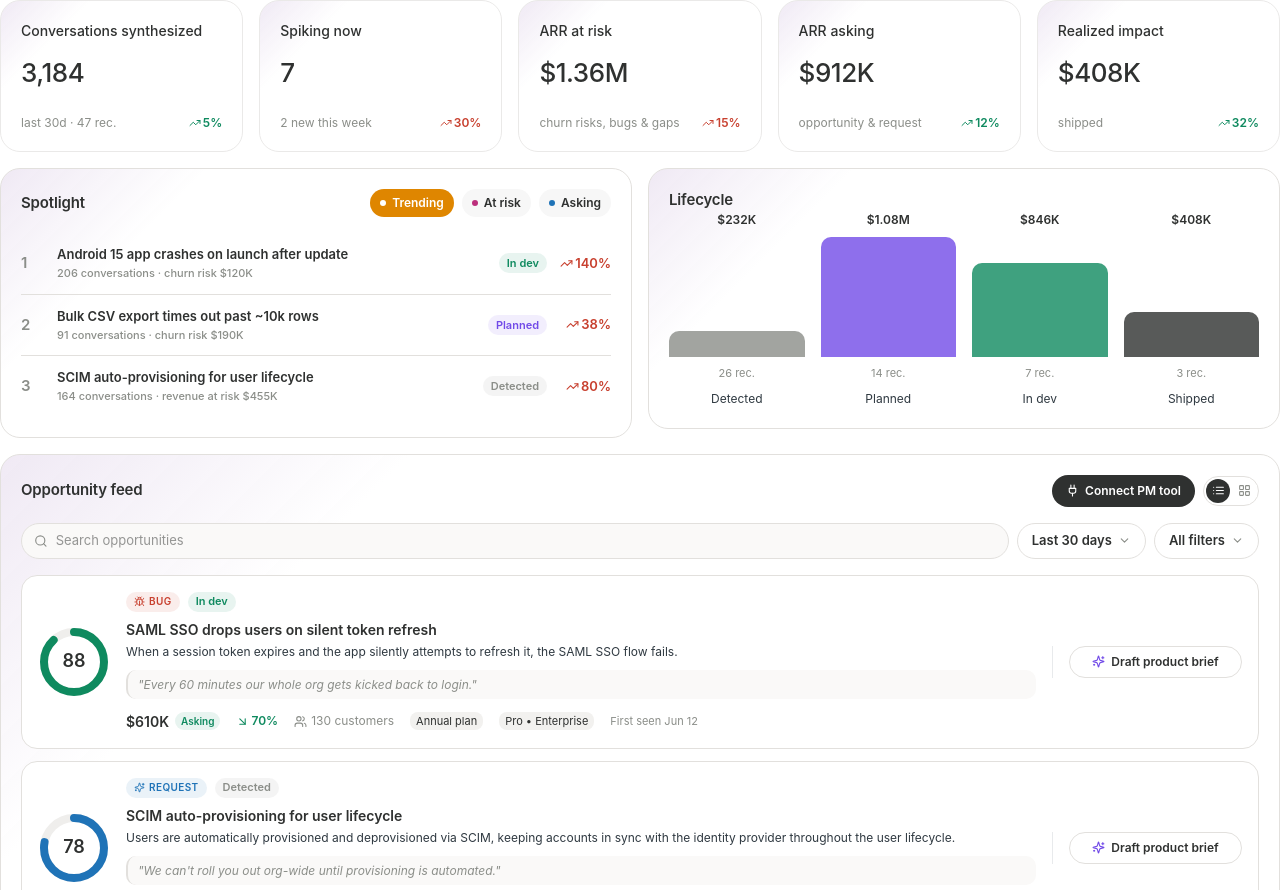
Test: PmDashboard › swaps the spotlight to its own curated list per tab
Check: the text "Android 15 app crashes on launch after update" is shown, box 57,246 -> 348,262
Check: the text "140%" is shown, box 575,254 -> 611,273
At risk: distinct list with BUG/GAP tags + revenue amounts (Android item is gone).
Click the button "At risk" at (496, 203), box 462,189 -> 531,217
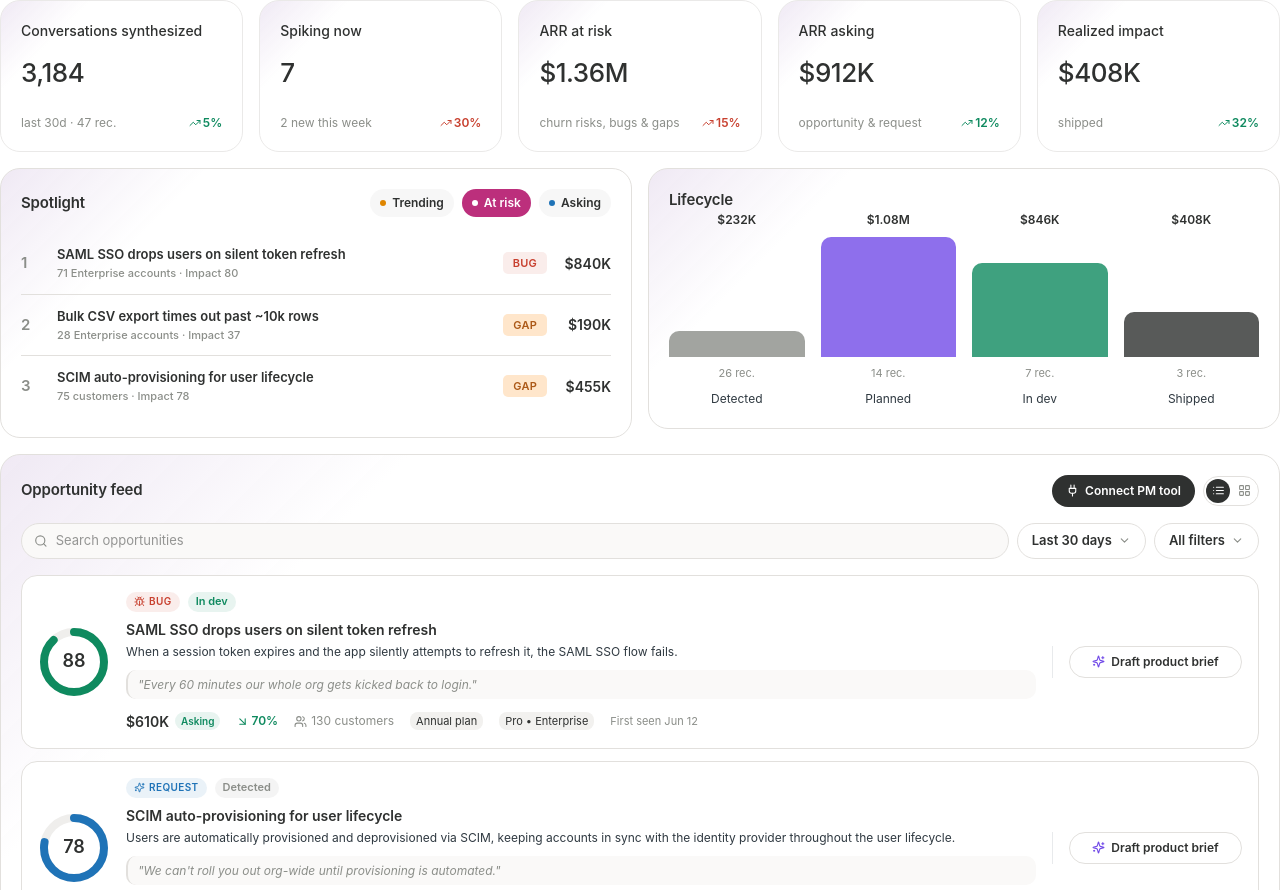
Check: the text "Android 15 app crashes" is gone
Check: the text "GAP" next to "$190K" is shown, box 513,318 -> 537,332
Check: the text "$840K" is shown, box 559,253 -> 611,274
Asking: growth list keyed on deals (Salesforce sync) with asking amounts.
Click the button "Asking" at (575, 203), box 539,189 -> 611,217
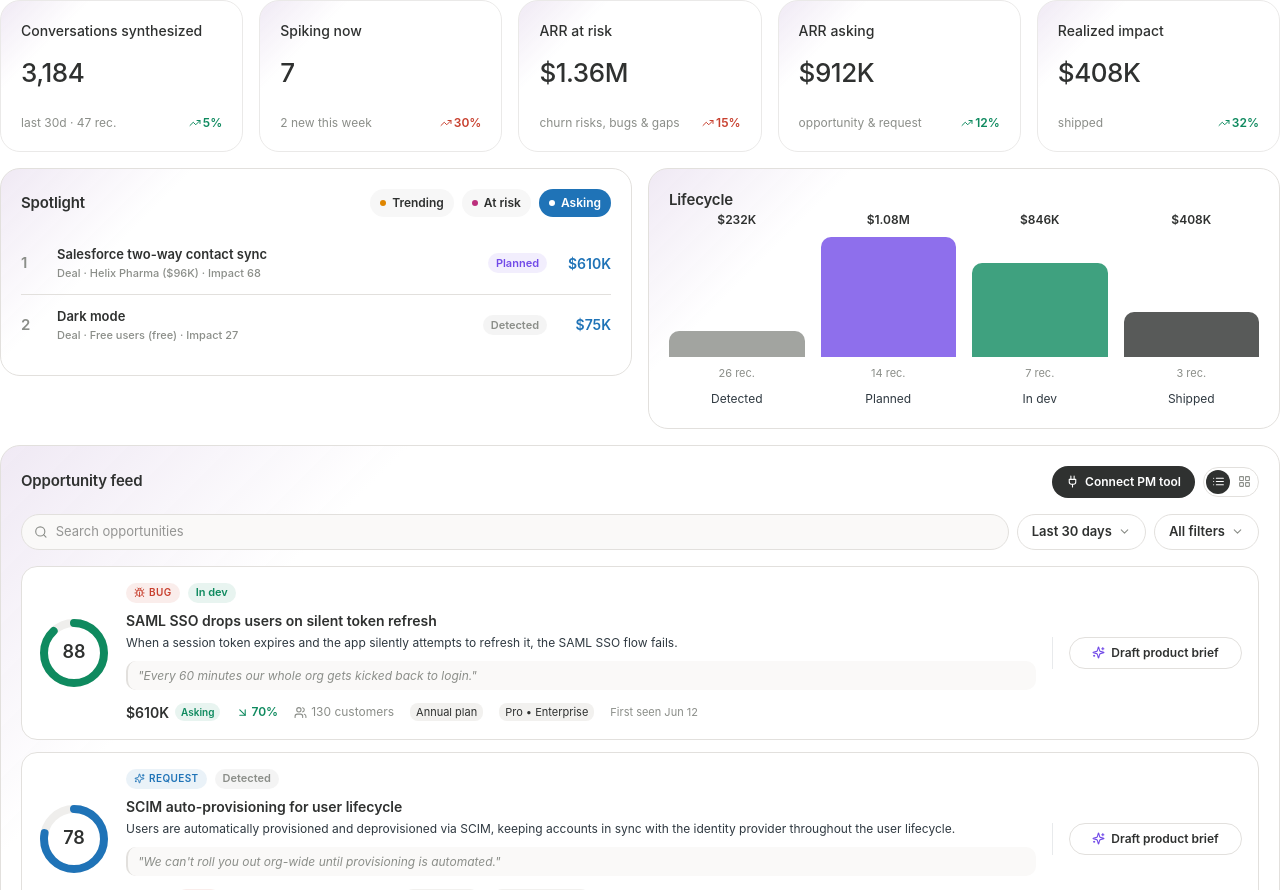
Check: the text "Salesforce two-way contact sync" is shown, box 57,246 -> 267,262
Check: the text "$610K" in the row of "Salesforce two-way contact sync" is shown, box 568,255 -> 611,272
